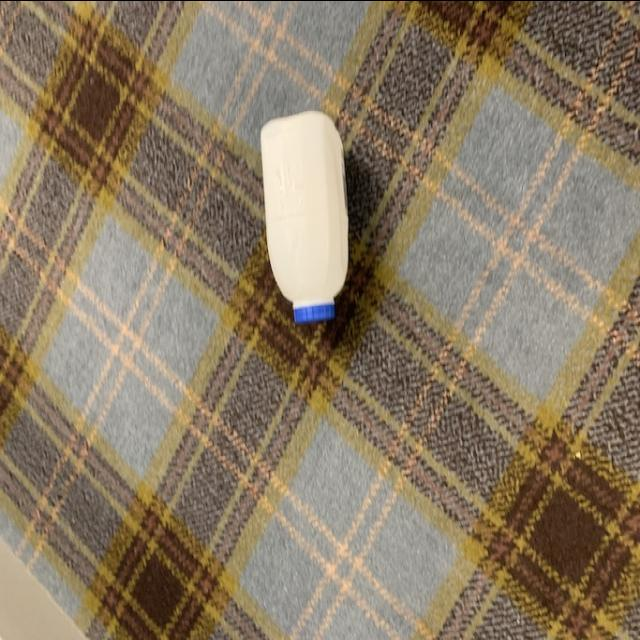HDPEM: (253, 105, 355, 325)
